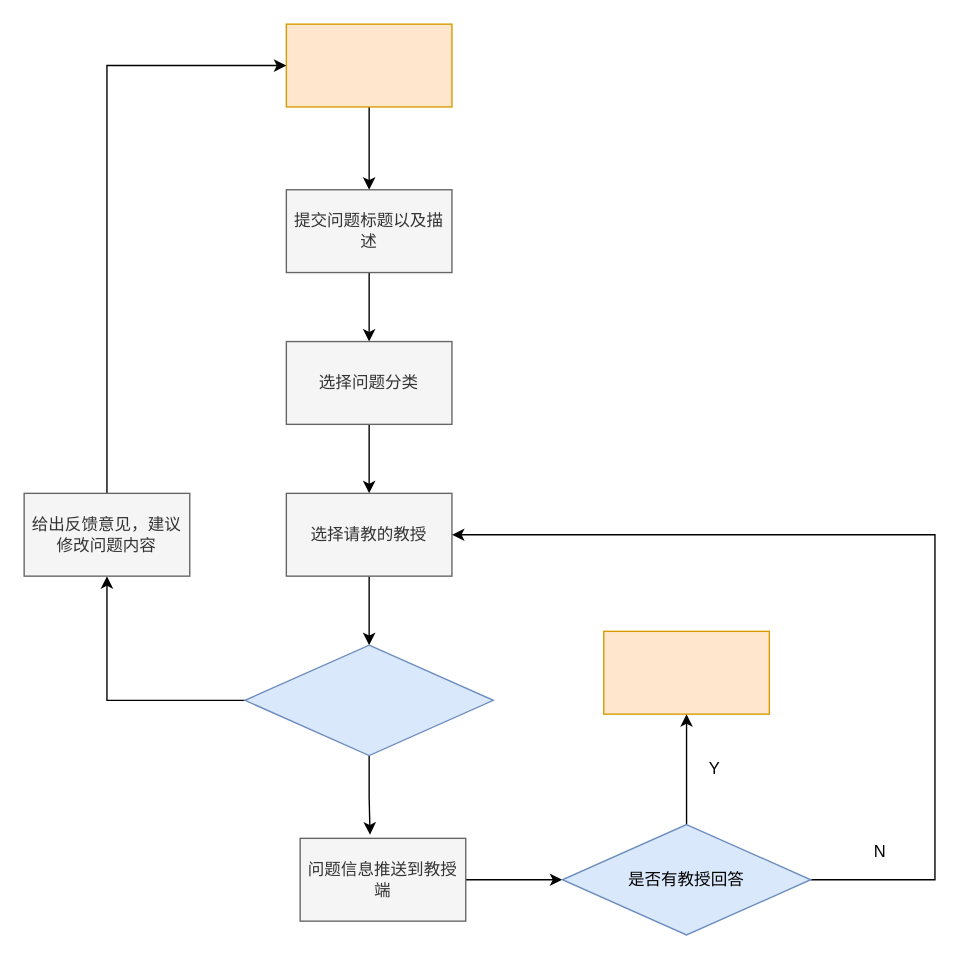
Image size: 970x959. Some labels were removed from this diagram. The centre of each missing label's shape, as x and y in pixels:
"开始" belongs at (x=368, y=65).
"管理审核问题，选择是否通过" belongs at (x=368, y=700).
"结束" belongs at (x=685, y=672).
